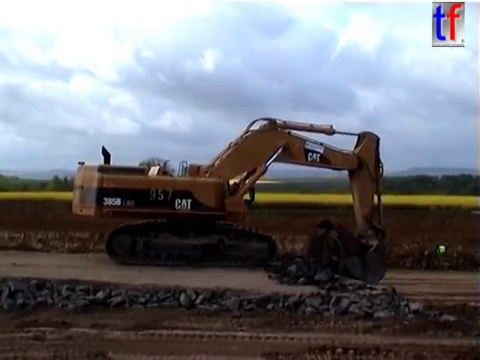excavator: (69, 115, 392, 287)
